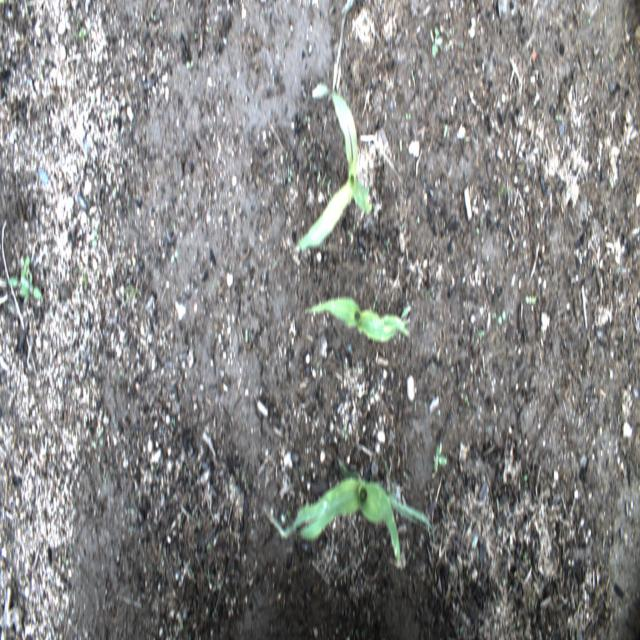crop: (294, 456, 431, 568), (296, 97, 372, 248), (305, 293, 410, 345)
weed: (10, 252, 42, 302), (430, 24, 441, 60), (434, 443, 446, 471), (522, 550, 532, 568), (497, 310, 506, 330), (371, 291, 379, 313), (442, 120, 449, 144), (524, 293, 536, 305), (522, 471, 529, 491), (286, 166, 293, 185), (306, 146, 314, 162), (342, 423, 348, 444), (511, 619, 521, 631), (322, 168, 329, 183), (628, 43, 635, 58), (525, 613, 531, 630), (186, 59, 196, 69), (409, 547, 416, 561), (424, 286, 432, 298), (211, 608, 218, 621), (111, 185, 118, 198), (300, 135, 307, 148), (196, 518, 202, 533), (327, 178, 332, 196), (616, 411, 620, 432), (463, 396, 470, 408), (608, 50, 614, 64), (315, 170, 321, 184), (402, 472, 410, 482), (316, 358, 324, 368), (554, 113, 562, 123), (34, 427, 40, 440), (346, 610, 352, 622), (526, 598, 532, 610), (347, 227, 353, 239), (304, 112, 310, 124), (533, 599, 538, 613), (405, 111, 412, 121), (448, 565, 454, 576), (286, 506, 291, 519), (502, 577, 508, 587), (61, 554, 67, 564), (242, 278, 248, 288), (475, 224, 480, 236), (361, 628, 367, 638), (352, 248, 360, 255), (382, 594, 387, 605), (206, 541, 211, 552), (298, 464, 303, 475), (566, 567, 572, 576), (386, 235, 390, 247), (348, 630, 354, 638), (412, 592, 416, 603), (378, 614, 382, 624), (286, 380, 290, 390), (356, 629, 360, 638)
